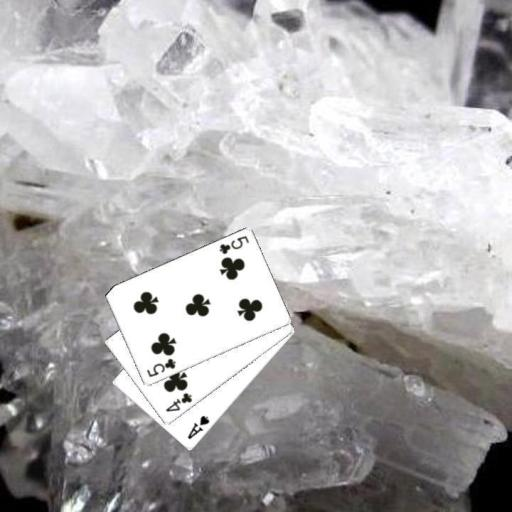card-corner: (184, 412, 211, 441), (216, 233, 250, 256), (162, 390, 194, 414), (144, 356, 177, 379)
